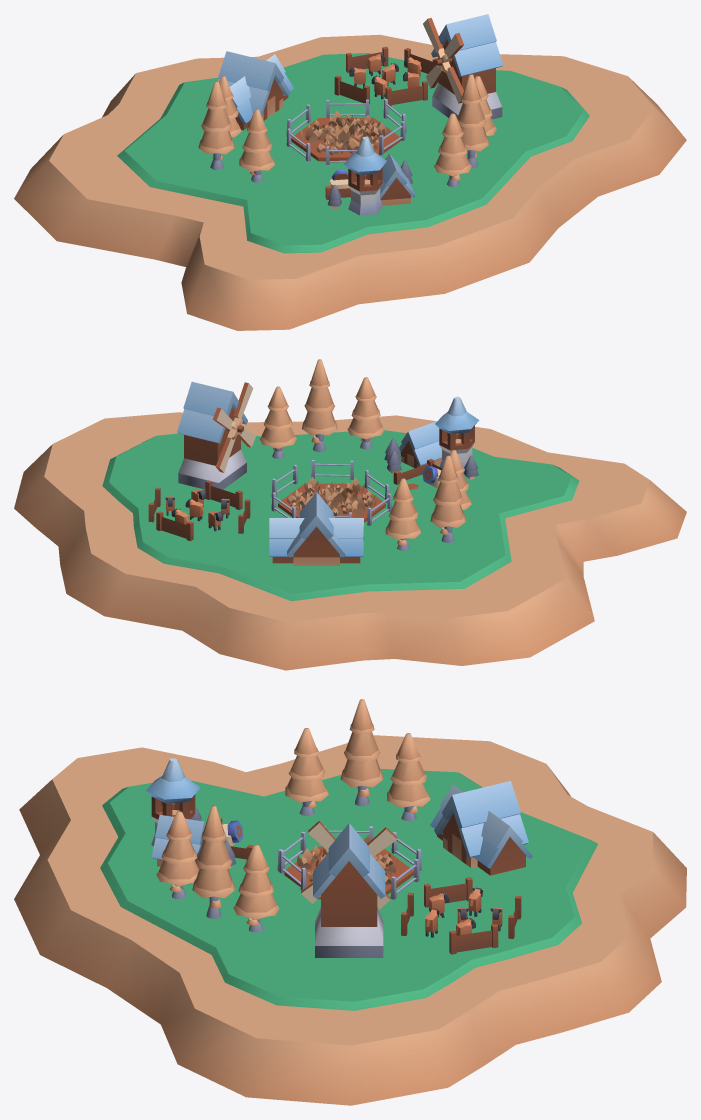
File: Farm Island.obj
The picture shows the model from 3 angles, top to bottom: view 1: azimuth 30°, elevation 25°; view 2: azimuth 150°, elevation 25°; view 3: azimuth 270°, elevation 25°; orthographic projection. The views are drawn at different scales.
Parts seen in each view (by area): view 1: patch-sand, patch-grass, building_archery, unit_mill, unit_mansion, building_sheep, tree.002, tree, tree.004, tree.005, rotate_x, dirt (+2 smaller); view 2: patch-sand, patch-grass, unit_mill, unit_mansion, building_archery, building_sheep, tree, tree.002, tree.001, tree.004, tree.003, rotate_x (+2 smaller); view 3: patch-sand, patch-grass, unit_mill, unit_mansion, building_archery, building_sheep, tree, tree.002, tree.001, tree.005, tree.003, tree.004 (+2 smaller).
Boxes of the visible parts, x1,y1,x2,y2 form: patch-sand: (14,34,686,330); patch-grass: (117,53,589,253); building_archery: (325,136,415,215); unit_mill: (431,14,503,119); unit_mansion: (218,51,293,130); building_sheep: (334,46,437,106); tree.002: (198,81,234,169); tree: (457,74,489,168); tree.004: (434,113,471,186); tree.005: (239,109,274,182); rotate_x: (423,18,463,103); dirt: (291,117,400,161); patch-sand: (14,412,686,670); patch-grass: (102,430,579,601); unit_mill: (177,381,247,489); unit_mansion: (269,492,363,565); building_archery: (384,396,479,489); building_sheep: (148,480,250,541); tree: (302,359,337,452); tree.002: (430,455,466,542); tree.001: (259,386,296,458); tree.004: (347,377,384,449); tree.003: (385,478,421,550); rotate_x: (212,382,255,472); patch-sand: (14,735,686,1105); patch-grass: (100,769,597,1010); unit_mill: (313,823,385,957); unit_mansion: (430,781,532,875); building_archery: (146,758,253,868); building_sheep: (401,877,521,954); tree: (192,805,235,918); tree.002: (340,699,383,805); tree.001: (233,844,279,932); tree.005: (285,728,328,815); tree.003: (387,733,430,821); tree.004: (156,811,198,898).
Size of the model in its own units: 4.33 by 0.9328 by 3.57.
